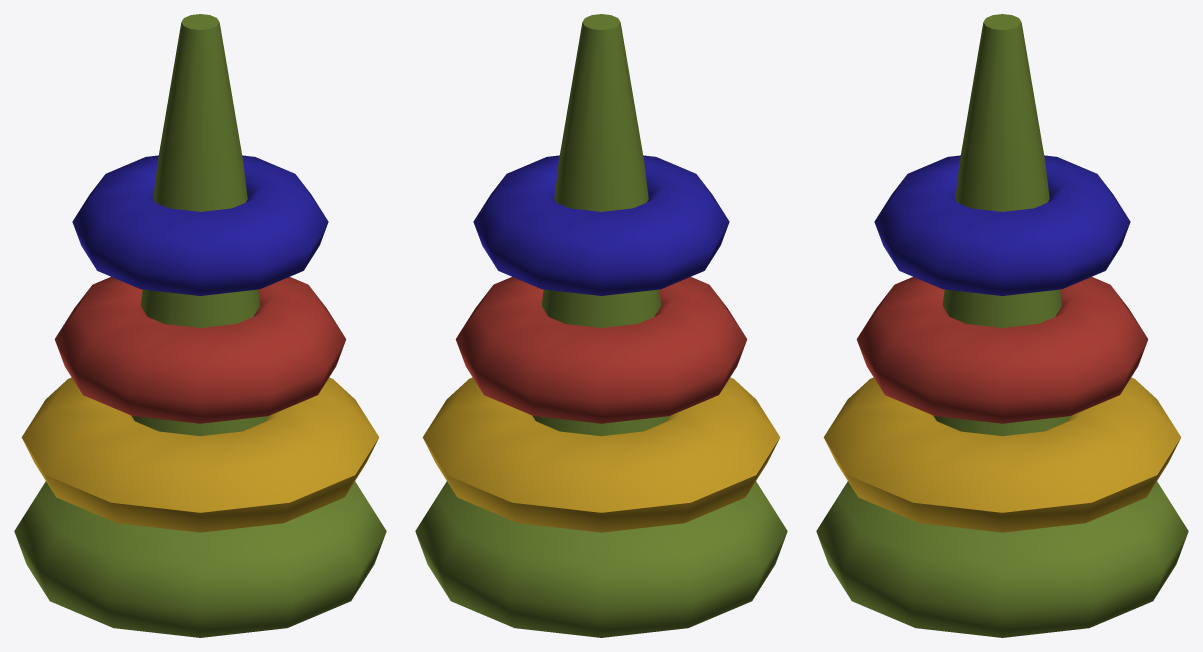
Rendered from decor_kidstoys.fbx.
3 renders of one model, left to right at view 1: azimuth 30°, elevation 25°; view 2: azimuth 150°, elevation 25°; view 3: azimuth 270°, elevation 25°, orthographic.
Parts seen in each view (by area): view 1: decor_kidstoy, decor_kidstoy1, decor_kidstoy2, decor_kidstoy3; view 2: decor_kidstoy, decor_kidstoy1, decor_kidstoy2, decor_kidstoy3; view 3: decor_kidstoy, decor_kidstoy1, decor_kidstoy2, decor_kidstoy3.
Part boxes in pixels (x1,y1,x2,y2): decor_kidstoy: (14,14,386,637); decor_kidstoy1: (21,377,379,532); decor_kidstoy2: (54,277,346,423); decor_kidstoy3: (72,155,328,295); decor_kidstoy: (415,14,787,637); decor_kidstoy1: (422,377,780,532); decor_kidstoy2: (455,277,747,423); decor_kidstoy3: (473,155,729,295); decor_kidstoy: (816,14,1188,637); decor_kidstoy1: (823,377,1181,532); decor_kidstoy2: (856,277,1148,423); decor_kidstoy3: (874,155,1130,295).
Size of the model in its own units: 33.72 by 56.67 by 33.72.
